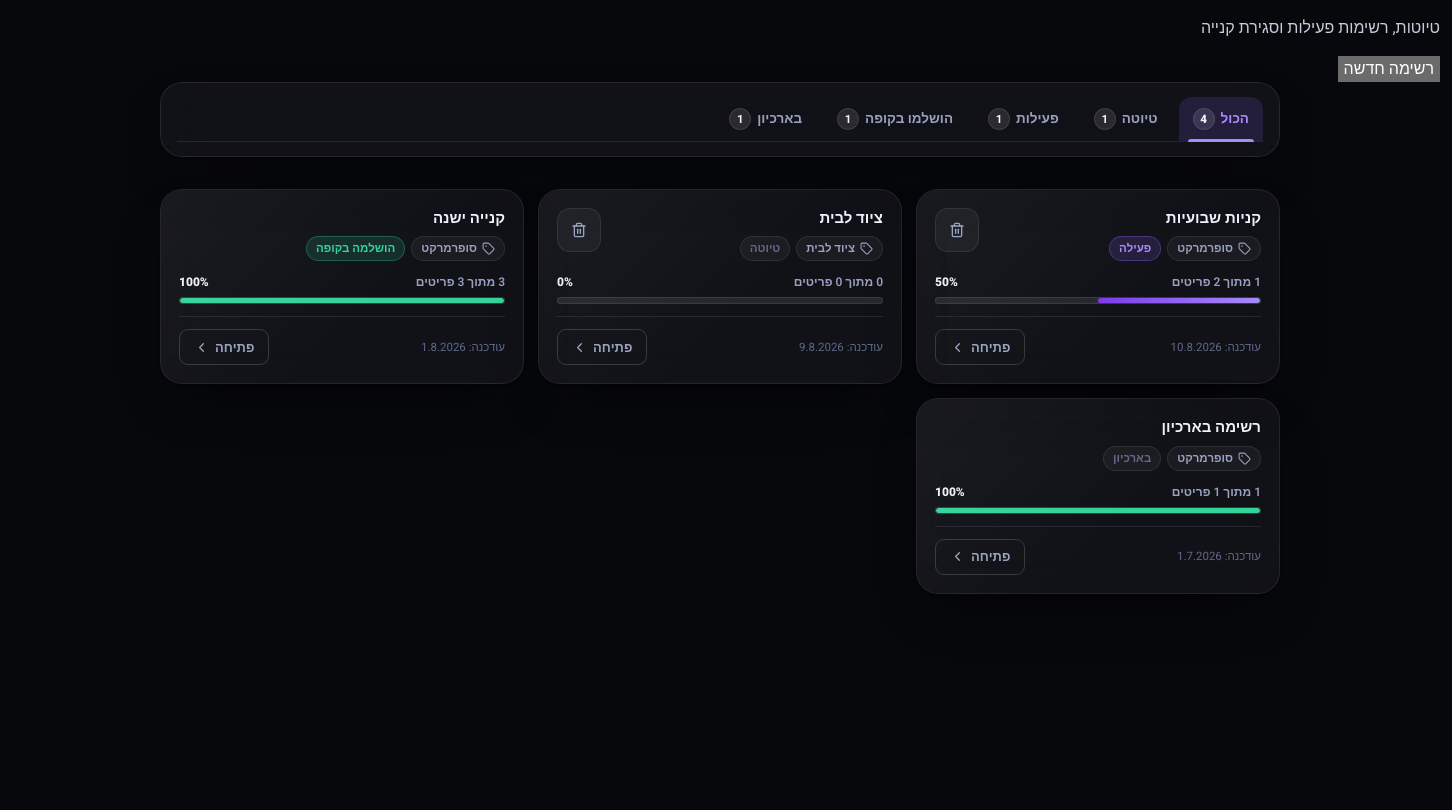
Test case: Shopping in-page detail and item lifecycle › opens detail without routing, preserves mapped categories, grouping, totals, and floating-point formatting
Click the button "פתיחה" next to "10.8.2026": (980, 347) [935,329,1025,365]
(page scrolled)
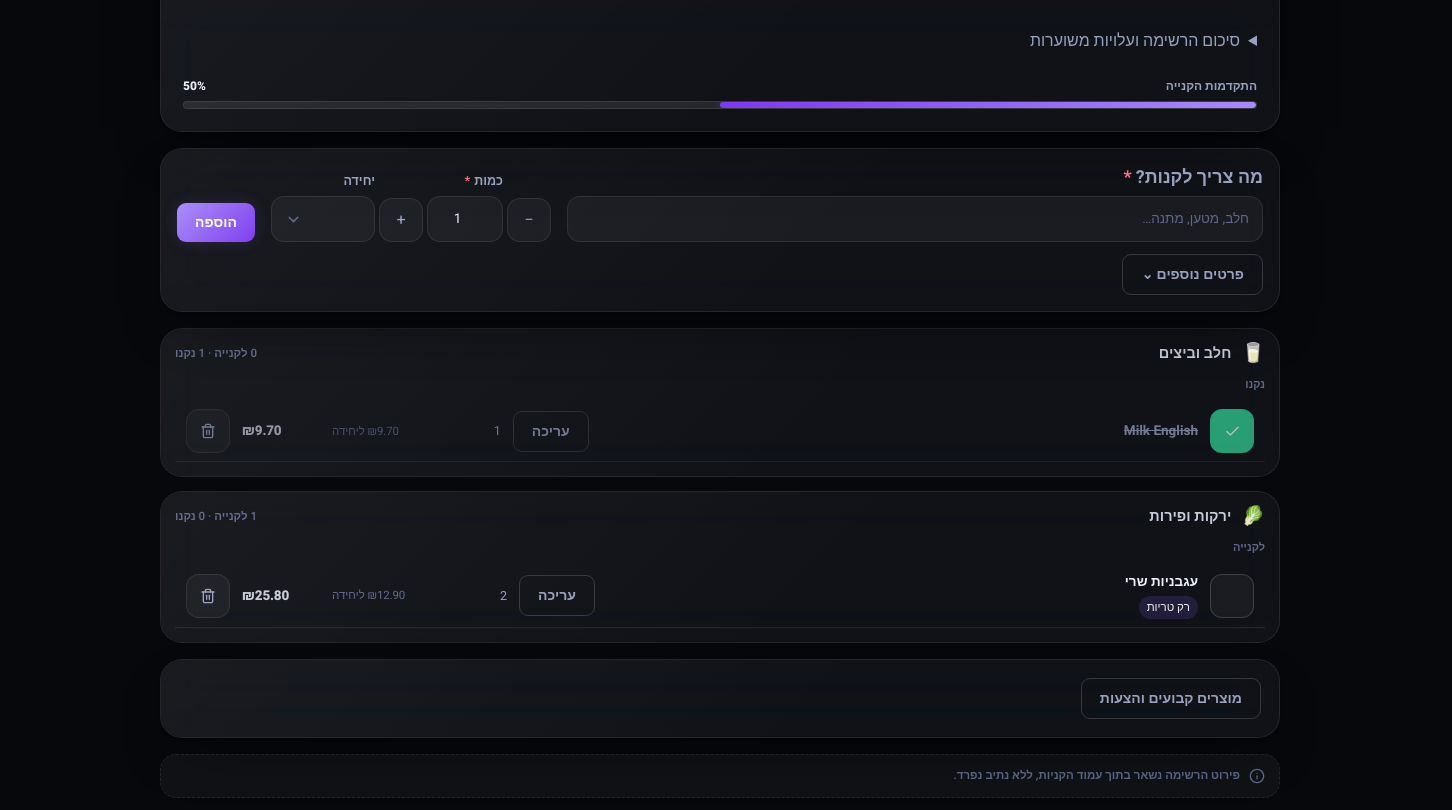
Result: the heading "ירקות ופירות" is shown at [1149,506,1231,527]
Result: the heading "חלב וביצים" is shown at [1159,343,1231,364]
Result: the text "רק טריות" is shown at [1139,596,1198,619]
